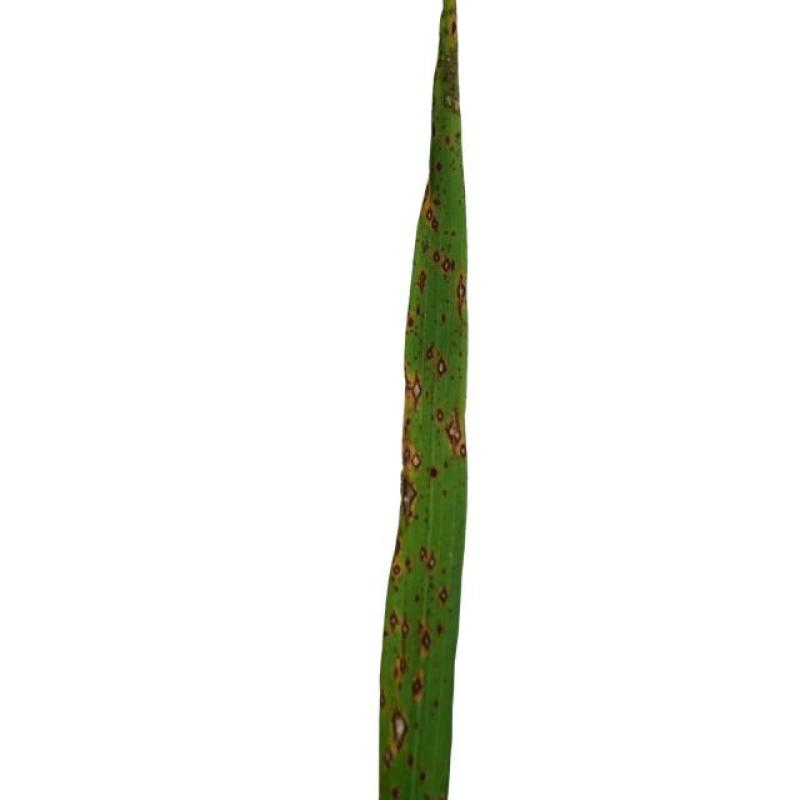Leaf_Blast: (392, 542, 430, 584), (400, 473, 420, 532), (436, 76, 458, 122), (446, 408, 466, 453), (455, 268, 469, 328), (440, 10, 454, 69), (410, 672, 428, 702), (392, 650, 410, 678), (412, 364, 422, 411), (432, 355, 450, 381), (381, 742, 395, 772), (408, 444, 424, 470), (416, 269, 427, 299), (441, 254, 451, 284), (421, 629, 435, 650), (389, 611, 400, 634), (430, 249, 441, 271), (442, 585, 452, 609), (434, 408, 446, 424), (402, 616, 408, 640), (430, 550, 436, 572)
